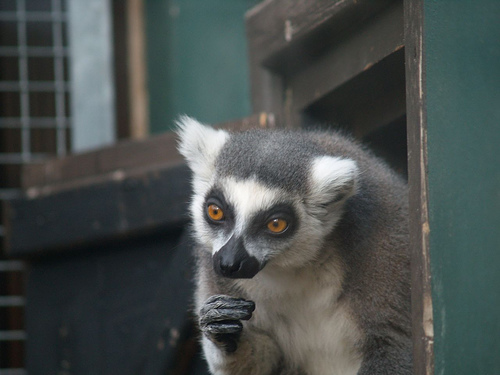cat: (171, 107, 414, 374)
